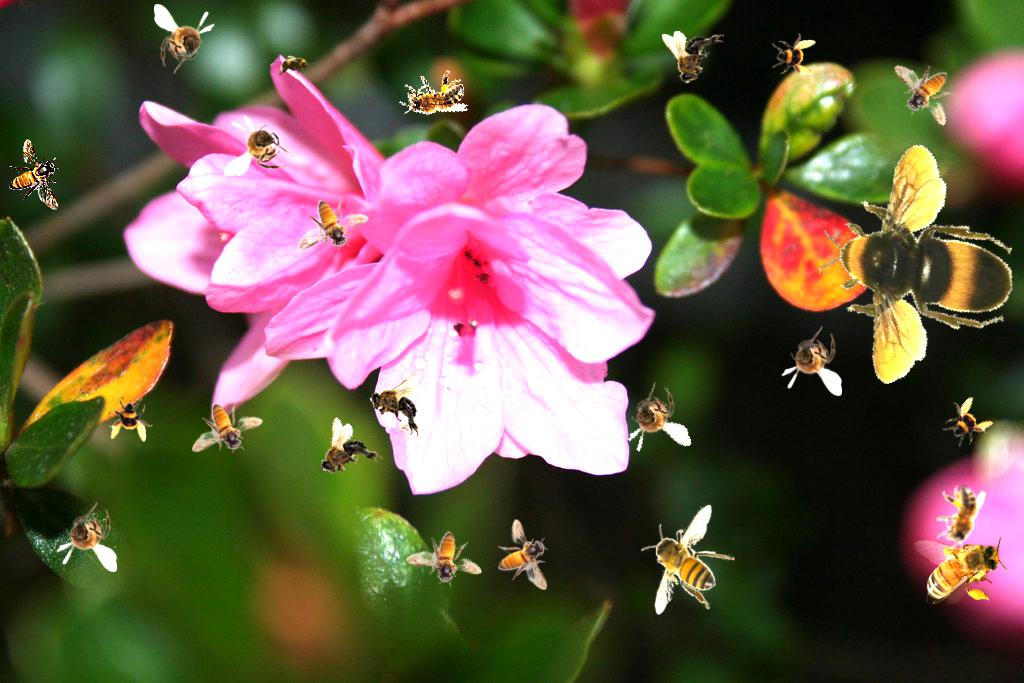Bee: (790, 125, 1024, 394), (641, 504, 735, 615), (404, 519, 492, 600), (303, 414, 386, 496), (614, 377, 693, 461), (914, 536, 1007, 604), (892, 52, 962, 135), (394, 66, 470, 127), (930, 481, 988, 556), (56, 502, 117, 572), (154, 4, 215, 74), (224, 115, 294, 176), (781, 326, 842, 396), (934, 390, 998, 454), (498, 519, 548, 590), (298, 200, 369, 250), (9, 139, 59, 210), (192, 403, 263, 453), (662, 31, 724, 84), (369, 374, 422, 436), (109, 398, 153, 442), (772, 33, 816, 77), (275, 55, 315, 77)
